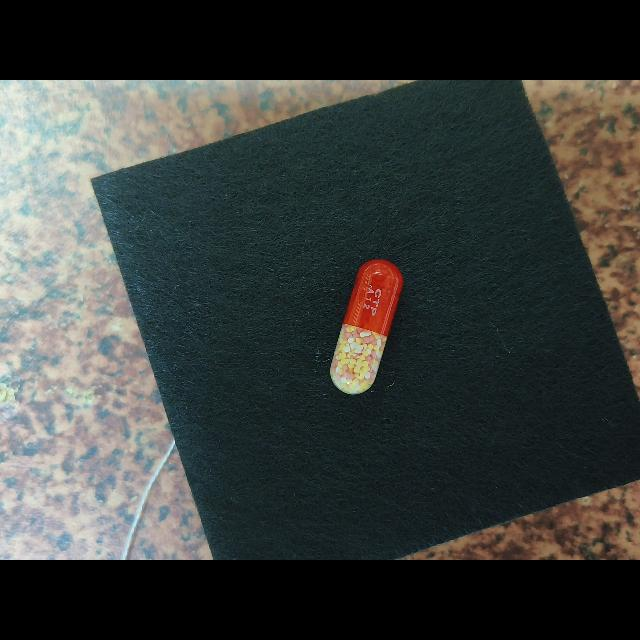Intact Capsule: (330, 259, 403, 394)
